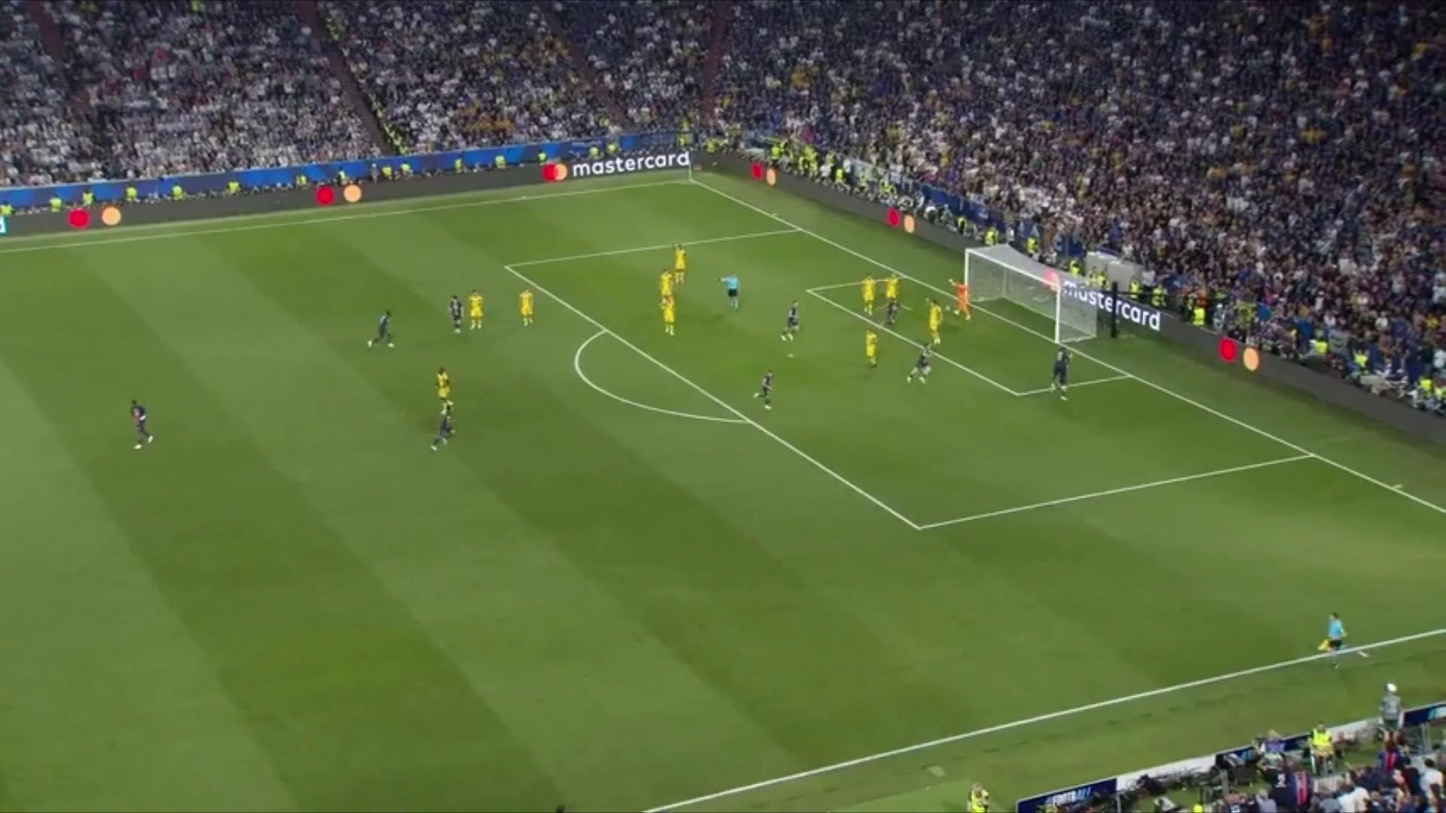ball: (947, 306, 953, 314)
player_A: (130, 399, 152, 446), (432, 406, 455, 450), (1051, 346, 1070, 396), (368, 309, 392, 348), (779, 300, 801, 342), (906, 349, 932, 383), (754, 371, 774, 410), (448, 294, 463, 334), (883, 296, 898, 327)
player_B: (926, 299, 943, 345), (435, 366, 452, 408), (467, 290, 484, 330), (859, 275, 875, 315), (672, 242, 687, 284), (660, 296, 676, 335), (883, 275, 899, 310), (519, 289, 534, 326), (659, 269, 674, 304), (864, 330, 878, 367)
player_B_goal_keeper: (950, 279, 972, 321)
referee: (1321, 612, 1347, 656), (718, 273, 740, 311)
